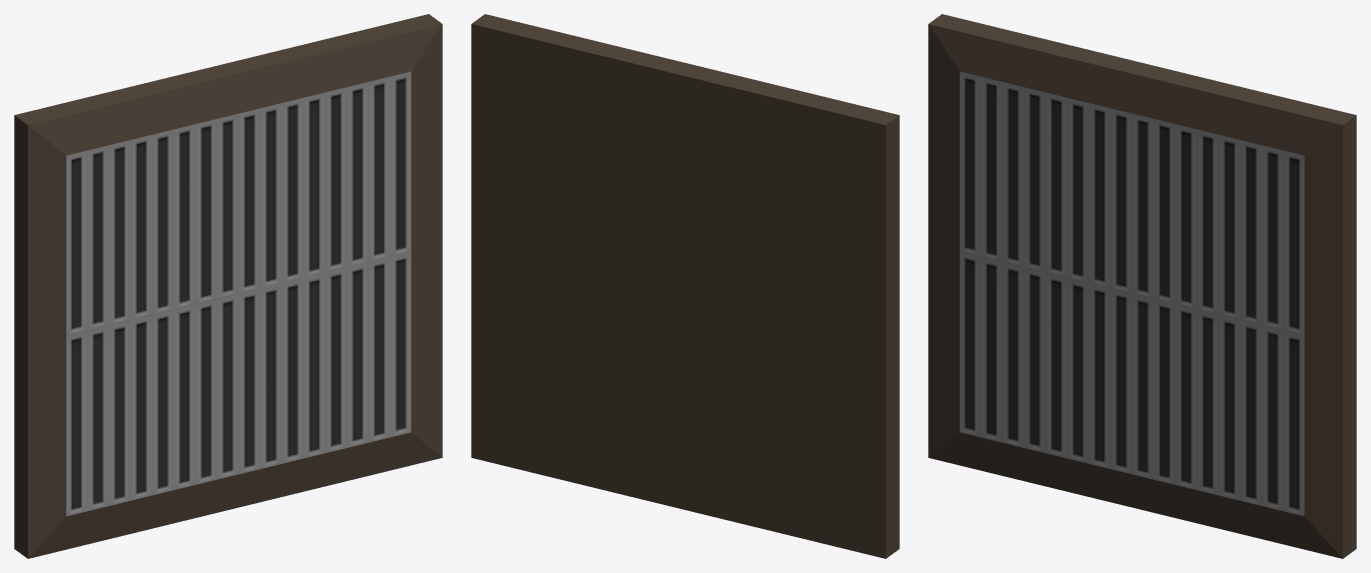
File: SW_PROP_WallVent.fbx
3 renders of one model, left to right at view 1: azimuth 30°, elevation 25°; view 2: azimuth 150°, elevation 25°; view 3: azimuth 330°, elevation 25°, orthographic.
Visible parts, largest first — view 1: SW_PROP_WallVent; view 2: SW_PROP_WallVent; view 3: SW_PROP_WallVent.
Boxes of the visible parts, left/top/right/bottom form: SW_PROP_WallVent: left=14, top=14, right=442, bottom=558; SW_PROP_WallVent: left=471, top=14, right=899, bottom=558; SW_PROP_WallVent: left=928, top=14, right=1356, bottom=558.
Bounding box in the file's own units: 70 × 70 × 5.
